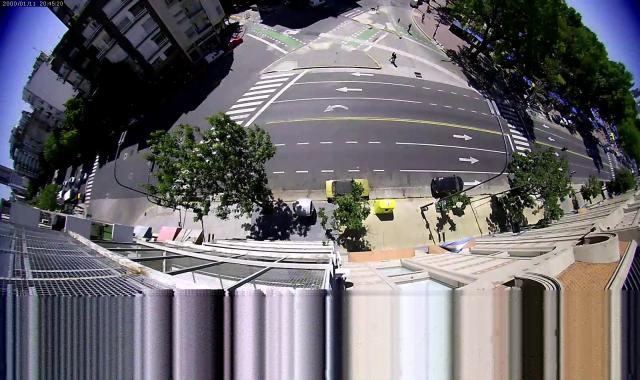bus: (64, 190, 78, 202), (56, 190, 65, 202)
car: (325, 180, 369, 198), (432, 176, 464, 196), (204, 50, 225, 63), (226, 37, 243, 50), (310, 0, 326, 7), (260, 6, 274, 12), (586, 148, 596, 156), (80, 173, 88, 181), (74, 182, 81, 190), (78, 193, 86, 200), (552, 115, 560, 122), (560, 118, 568, 125), (69, 176, 75, 183), (567, 120, 573, 127), (604, 147, 610, 153), (62, 181, 68, 186), (598, 141, 602, 146), (602, 143, 605, 146)
